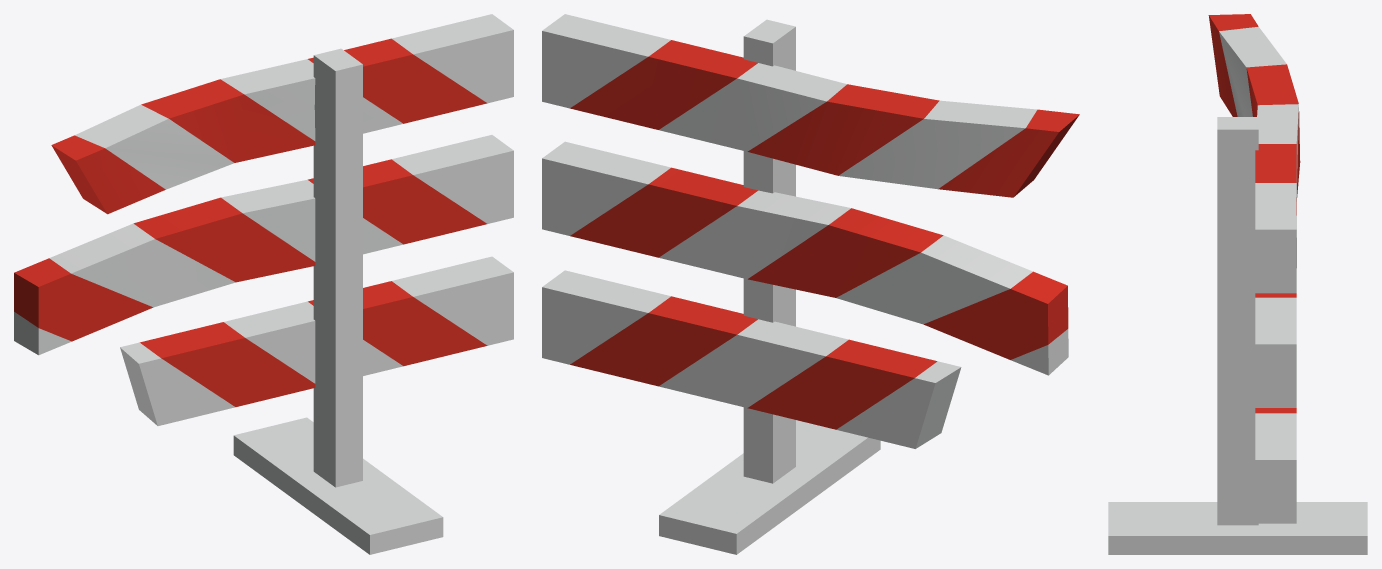
The model's file is SM_Obstacle_C_Wall_Break_Lt.fbx.
3 renders of one model, left to right at view 1: azimuth 30°, elevation 25°; view 2: azimuth 150°, elevation 25°; view 3: azimuth 270°, elevation 25°, orthographic. The views are drawn at different scales.
Visible parts, largest first — view 1: SM_Obstacle_C_Wall_Break_Lt; view 2: SM_Obstacle_C_Wall_Break_Lt; view 3: SM_Obstacle_C_Wall_Break_Lt.
Boxes of the visible parts, <box> form: SM_Obstacle_C_Wall_Break_Lt: <box>14,14,513,554</box>; SM_Obstacle_C_Wall_Break_Lt: <box>542,14,1079,554</box>; SM_Obstacle_C_Wall_Break_Lt: <box>1108,14,1367,554</box>.
Size of the model in its own units: 123 by 107 by 60.8.
